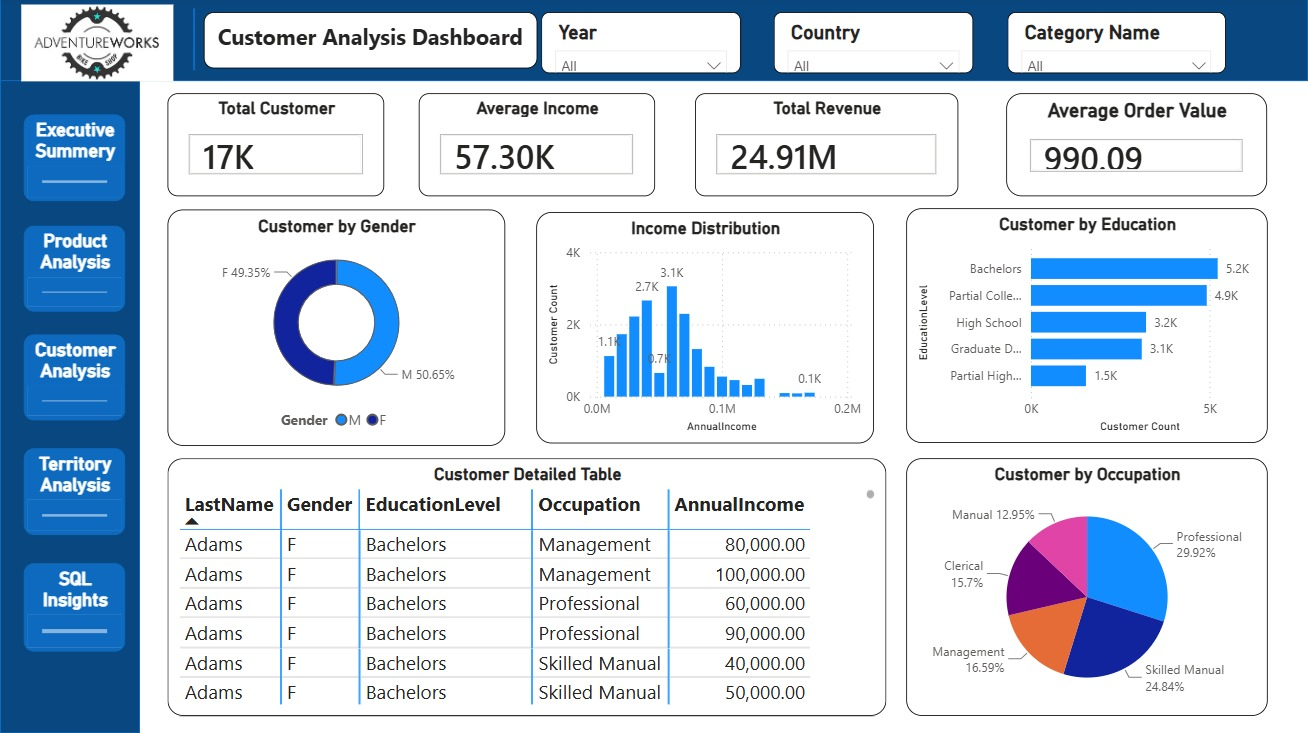

Layout of this report page (visuals, bound fields, positions):
{"tool":"powerbi","page":{"name":"Customer anaysis","canvas":[1280,720],"ordinal":2},"visuals":[{"type":"shape","box":[0,4.3,137.1,715.6],"z":0},{"type":"shape","box":[0,0,1279.7,82.2],"z":1000},{"type":"image","box":[0,7.2,190.4,75],"z":2000},{"type":"shape","box":[151.5,11.5,76.5,60.6],"z":3000},{"type":"slicer","fields":{"Values":["dimdate.Year"]},"box":[530,15,195,60],"z":4000},{"type":"slicer","fields":{"Values":["dimterritory.Country"]},"box":[756.7,15,195,60],"z":5000},{"type":"slicer","fields":{"Values":["dimproductcategory.CategoryName"]},"box":[985,15,213.3,60],"z":6000},{"type":"textbox","box":[199.1,14.4,326.1,54.8],"z":7000},{"type":"cardVisual","title":"Total Customer","fields":{"Data":["factsales.Total Customers"]},"box":[163.3,94.2,212.3,100.5],"z":13000},{"type":"cardVisual","title":"Average Income","fields":{"Data":["dimcustomer.Average Income"]},"box":[409.5,94.2,231.1,100.5],"z":14000},{"type":"cardVisual","title":"Total Revenue","fields":{"Data":["factsales.Total Sales"]},"box":[679.6,94.2,257.5,100.5],"z":15000},{"type":"cardVisual","title":"Average Order Value","fields":{"Data":["factsales.Average Order Value"]},"box":[984.8,94.2,255,100.5],"z":16000},{"type":"donutChart","title":"Customer by Gender","fields":{"Category":["dimcustomer.Gender"],"Y":["dimcustomer.Customer Count"]},"box":[163.9,207.9,330.2,231.1],"z":17000},{"type":"clusteredBarChart","title":"Customer by Education","fields":{"Category":["dimcustomer.EducationLevel"],"Y":["dimcustomer.Customer Count"]},"box":[886.6,206.7,353.4,229.9],"z":18000},{"type":"pieChart","title":"Customer by Occupation","fields":{"Category":["dimcustomer.Occupation"],"Y":["dimcustomer.Customer Count"]},"box":[886.6,451.2,353.4,251.9],"z":19000},{"type":"columnChart","title":"Income Distribution","fields":{"Category":["dimcustomer.AnnualIncome"],"Y":["dimcustomer.Customer Count"]},"box":[524.6,210.3,330.2,226.2],"z":20000},{"type":"tableEx","fields":{"Values":["dimcustomer.FirstName"]},"box":[511,451,356,252],"z":21000},{"type":"tableEx","title":"Customer Detailed Table","fields":{"Values":["dimcustomer.LastName","dimcustomer.Gender","dimcustomer.EducationLevel","dimcustomer.Occupation","dimcustomer.AnnualIncome"]},"box":[163.9,451.2,703.1,251.9],"z":22000},{"type":"actionButton","title":"Executive Summery","box":[23.1,115.4,99.6,85.1],"z":22001},{"type":"actionButton","title":"Product Analysis","box":[23.1,223.6,99.6,83.7],"z":22002},{"type":"actionButton","title":"Customer Analysis","box":[23.1,330.4,99.6,83.7],"z":22003},{"type":"actionButton","title":"Territory Analysis","box":[23.1,441.5,99.6,85.1],"z":22004},{"type":"actionButton","title":"SQL Insights","box":[23.1,554,99.6,86.6],"z":22005}]}

Visuals, with their boxes in screenshot pixels (x1, y1, x2, y2), scaled from the page's 1280x720 canvas onto the 1308x733 screenshot:
shape: bbox(0, 4, 140, 732)
shape: bbox(0, 0, 1307, 84)
image: bbox(0, 7, 195, 84)
shape: bbox(155, 12, 233, 73)
slicer - dimdate.Year: bbox(542, 15, 741, 76)
slicer - dimterritory.Country: bbox(773, 15, 973, 76)
slicer - dimproductcategory.CategoryName: bbox(1007, 15, 1225, 76)
textbox: bbox(203, 15, 537, 70)
"Total Customer" cardVisual: bbox(167, 96, 384, 198)
"Average Income" cardVisual: bbox(418, 96, 655, 198)
"Total Revenue" cardVisual: bbox(694, 96, 958, 198)
"Average Order Value" cardVisual: bbox(1006, 96, 1267, 198)
"Customer by Gender" donutChart: bbox(167, 212, 505, 447)
"Customer by Education" clusteredBarChart: bbox(906, 210, 1267, 444)
"Customer by Occupation" pieChart: bbox(906, 459, 1267, 716)
"Income Distribution" columnChart: bbox(536, 214, 873, 444)
tableEx - dimcustomer.FirstName: bbox(522, 459, 886, 716)
"Customer Detailed Table" tableEx: bbox(167, 459, 886, 716)
"Executive Summery" actionButton: bbox(24, 117, 125, 204)
"Product Analysis" actionButton: bbox(24, 228, 125, 313)
"Customer Analysis" actionButton: bbox(24, 336, 125, 422)
"Territory Analysis" actionButton: bbox(24, 449, 125, 536)
"SQL Insights" actionButton: bbox(24, 564, 125, 652)
